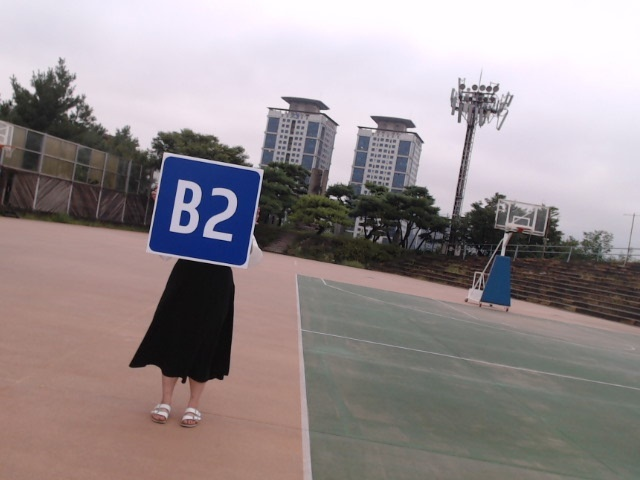delivery_b2: (149, 154, 261, 266)
